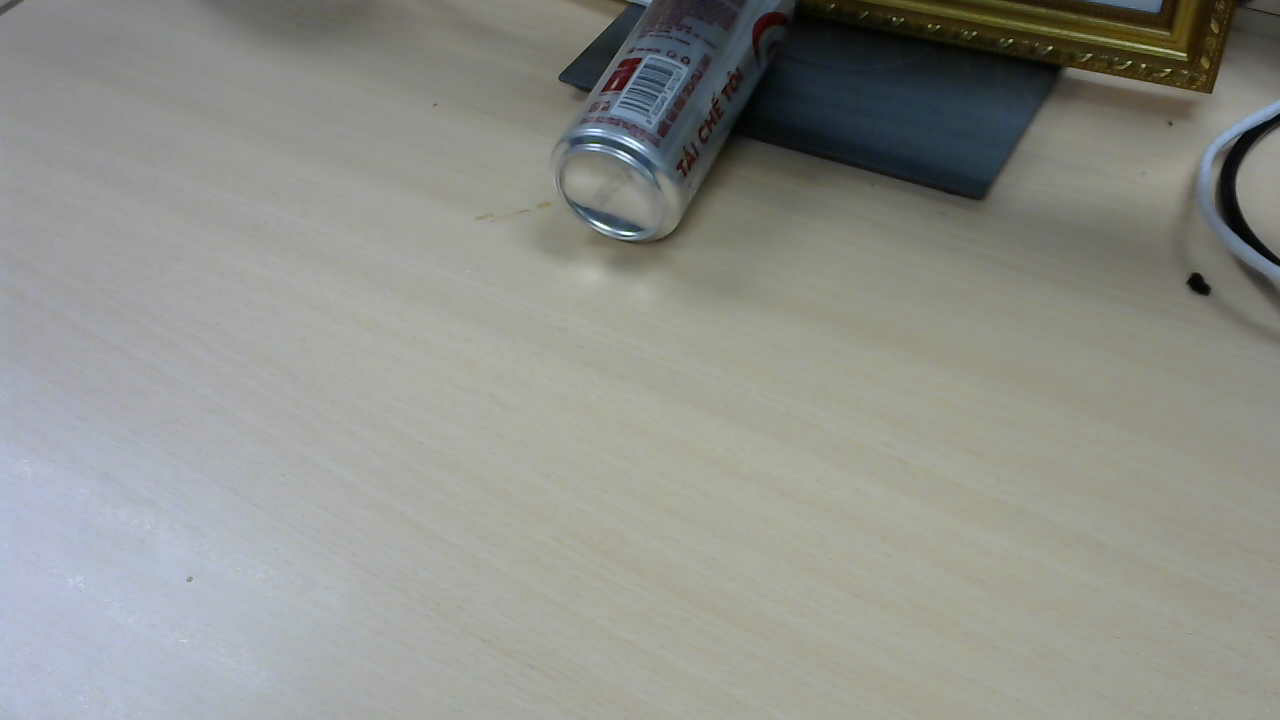Coca_Cola: (557, 7, 815, 249)
